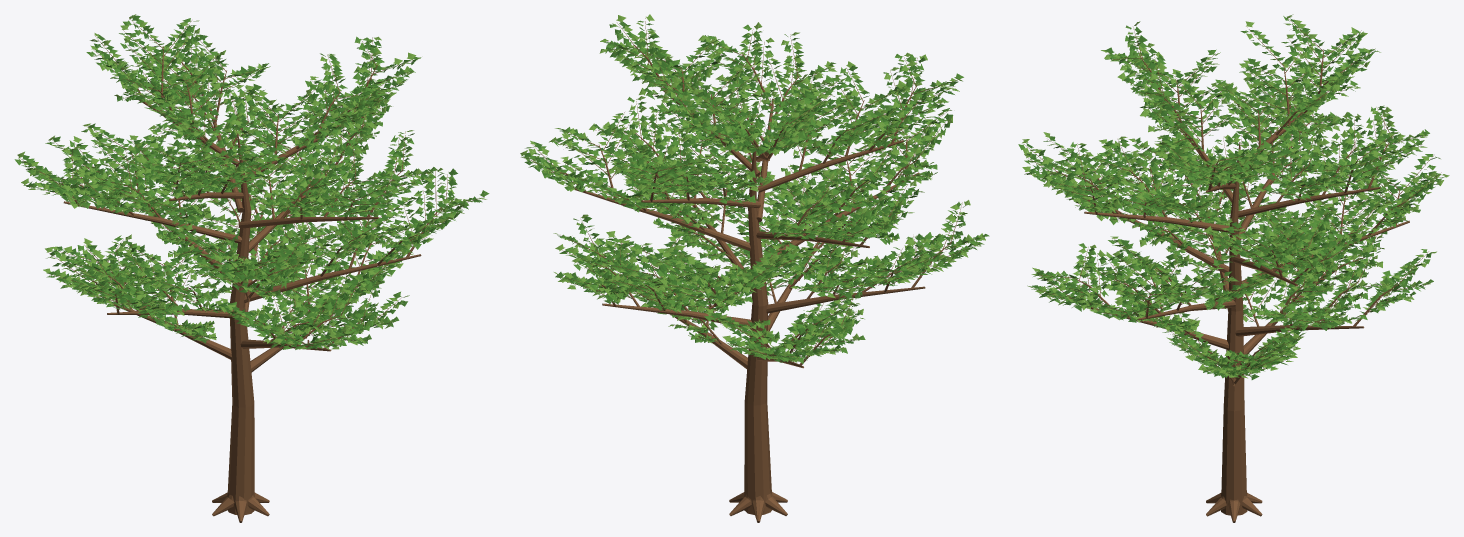
Rendered from oak-detailed-optimized.glb.
The picture shows the model from 3 angles, left to right: view 1: azimuth 30°, elevation 25°; view 2: azimuth 150°, elevation 25°; view 3: azimuth 270°, elevation 25°; orthographic projection. The views are drawn at different scales.
Visible parts, largest first — view 1: oak_material_2, oak_material_1, oak_material_3, oak_material_0; view 2: oak_material_1, oak_material_2, oak_material_3, oak_material_0; view 3: oak_material_1, oak_material_2, oak_material_3, oak_material_0.
Boxes of the visible parts, x1,y1,x2,y2 form: oak_material_2: (14, 18, 489, 349); oak_material_1: (17, 14, 486, 349); oak_material_3: (22, 15, 482, 349); oak_material_0: (20, 18, 484, 522); oak_material_1: (520, 14, 985, 361); oak_material_2: (522, 20, 989, 363); oak_material_3: (524, 21, 981, 362); oak_material_0: (529, 18, 982, 522); oak_material_1: (1022, 14, 1449, 378); oak_material_2: (1018, 16, 1442, 377); oak_material_3: (1026, 18, 1444, 379); oak_material_0: (1024, 18, 1441, 522).
Bounding box in the file's own units: 7.71 × 8.57 × 7.5.
